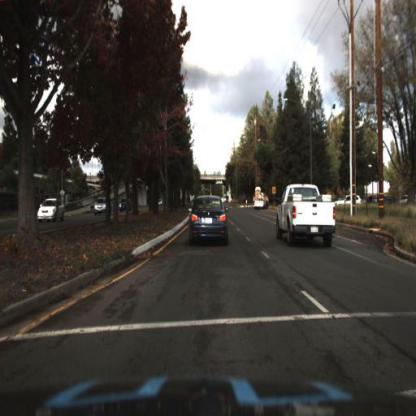car: (275, 178, 340, 250), (187, 195, 230, 250), (337, 186, 371, 216), (34, 196, 65, 223), (90, 192, 108, 221), (332, 194, 365, 209), (253, 186, 267, 210), (254, 188, 267, 212), (119, 197, 136, 215)
